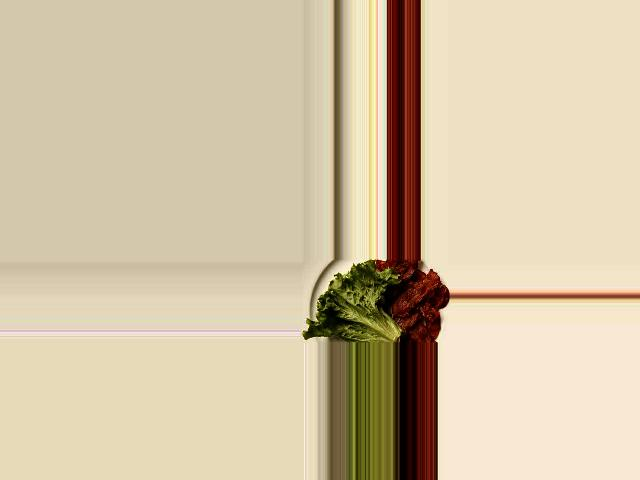lettuce: (307, 262, 400, 343)
